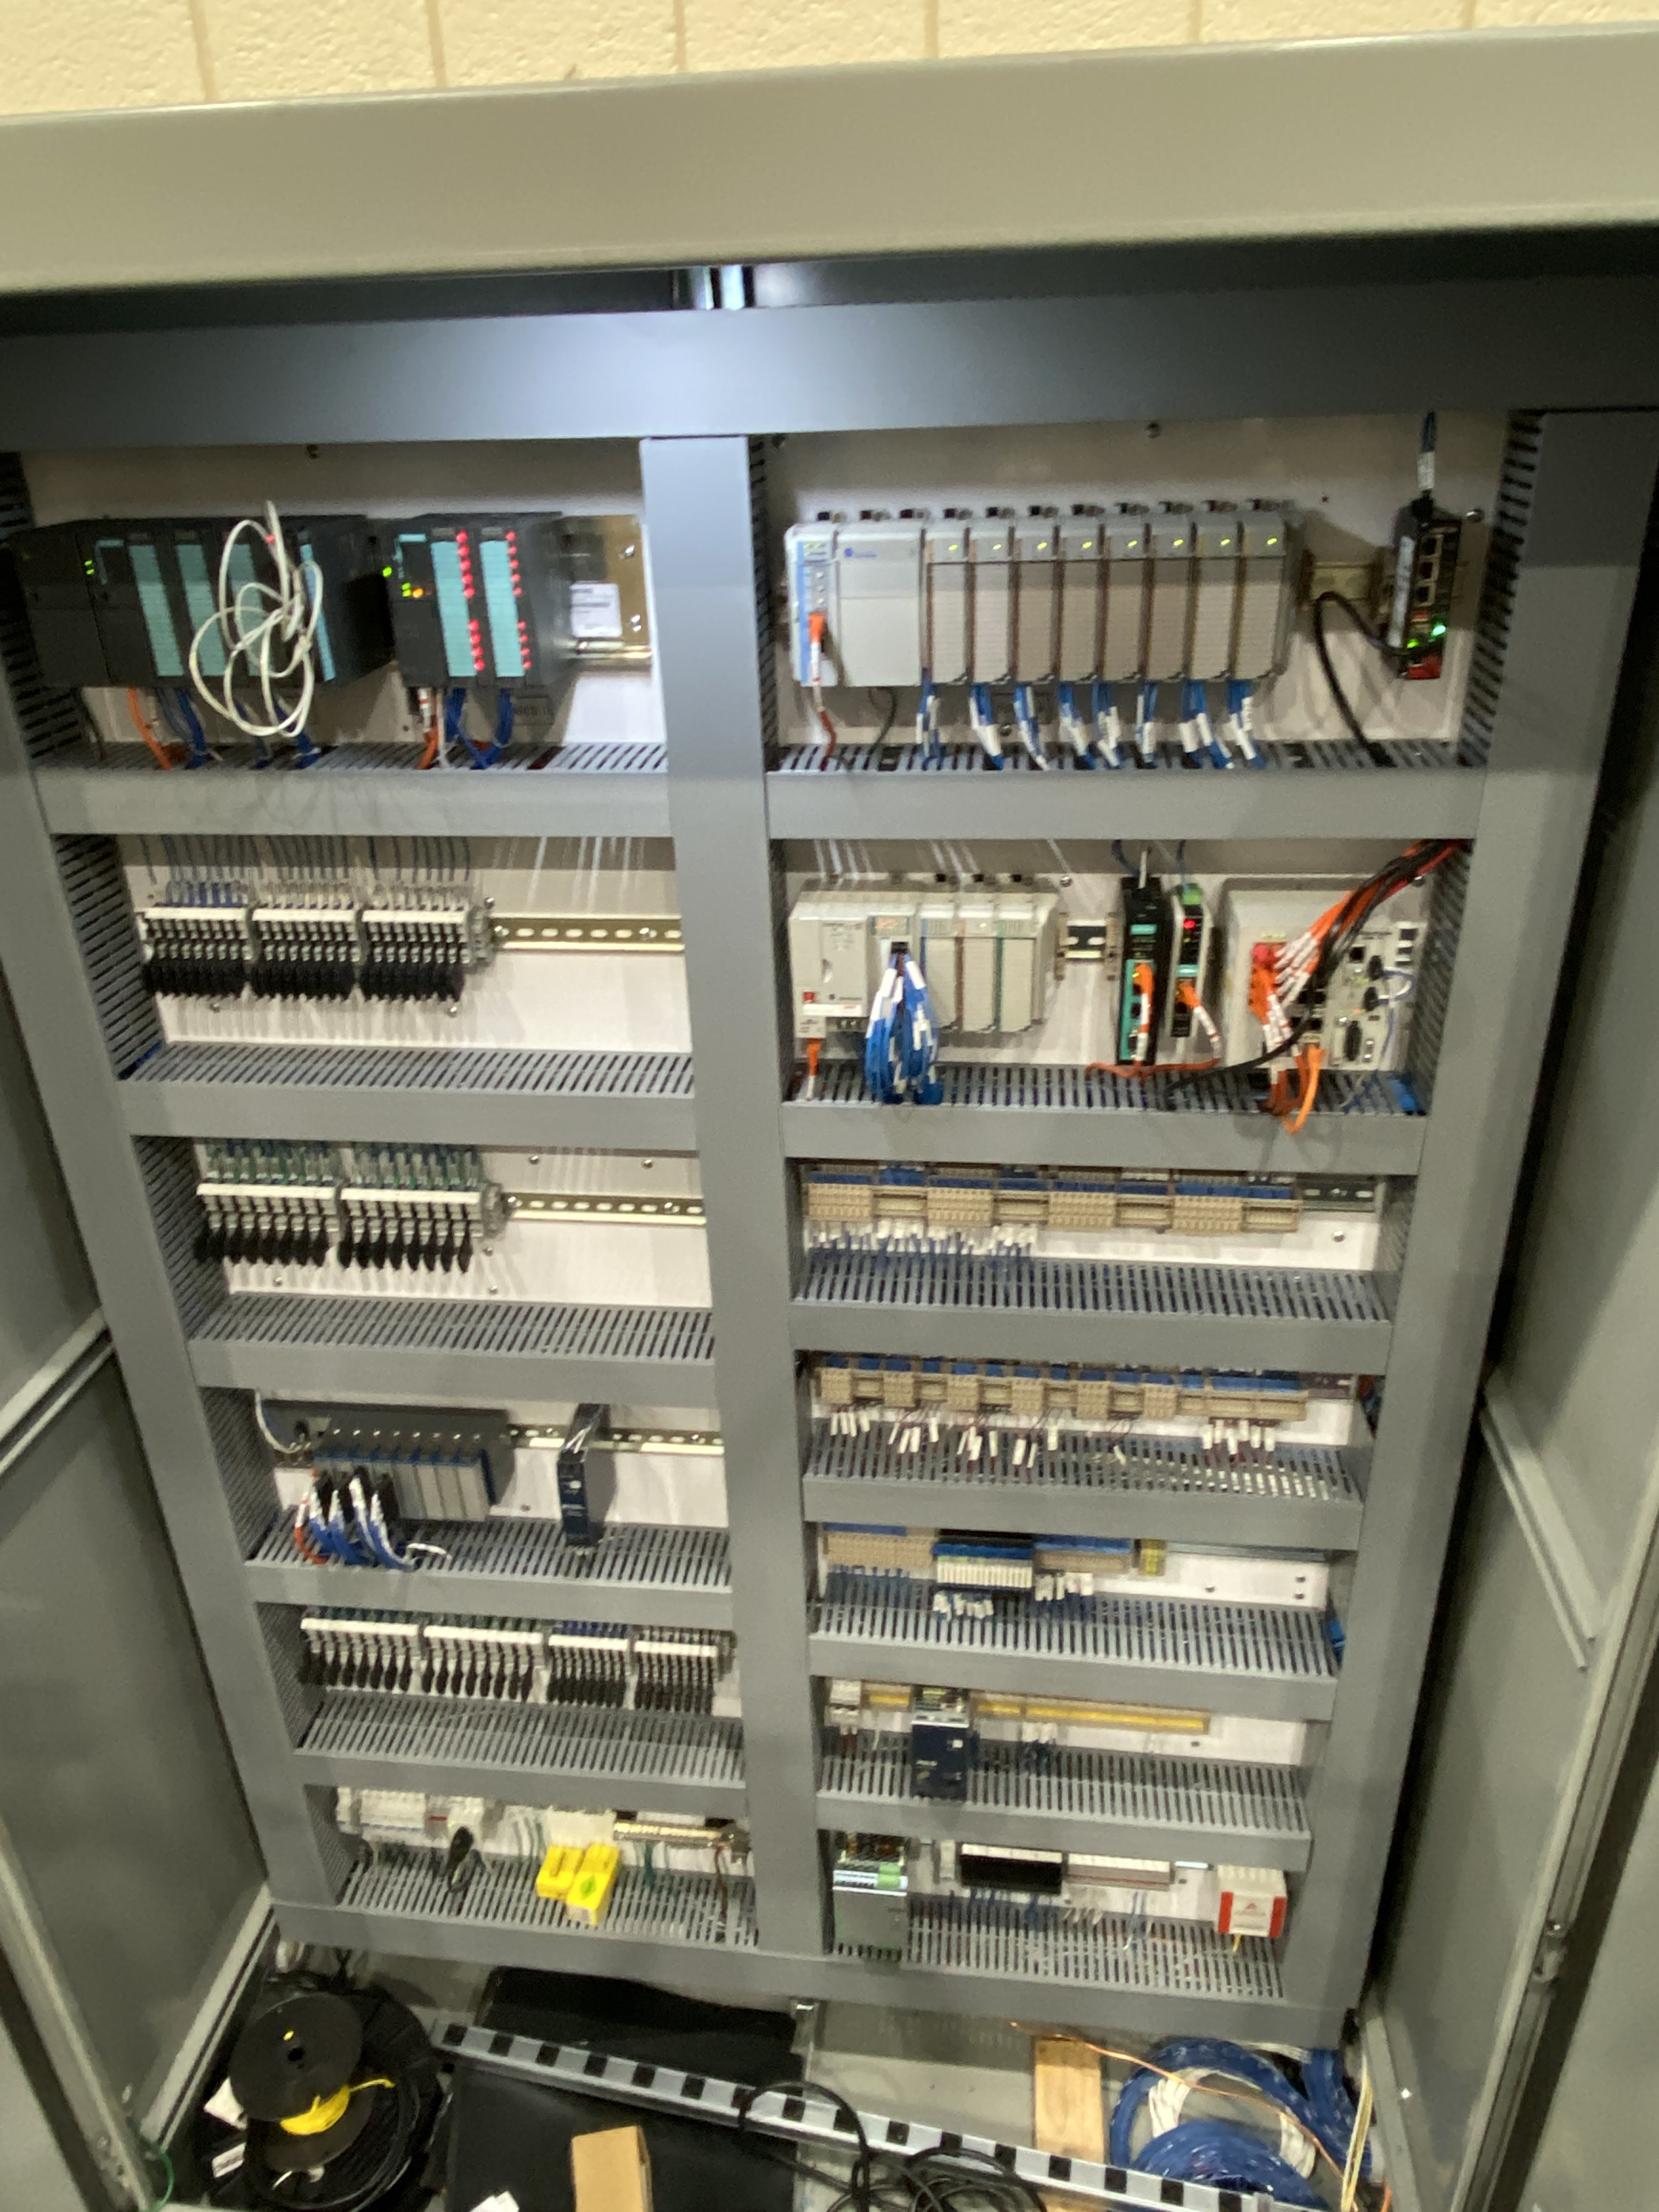AllenBradley: (786, 916, 868, 1045)
Siemens: (82, 538, 152, 688)
